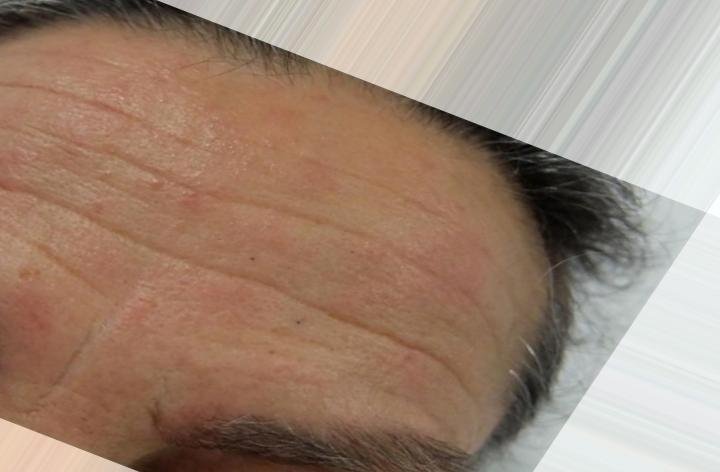Contact Dermatitis: (23, 93, 499, 396)
